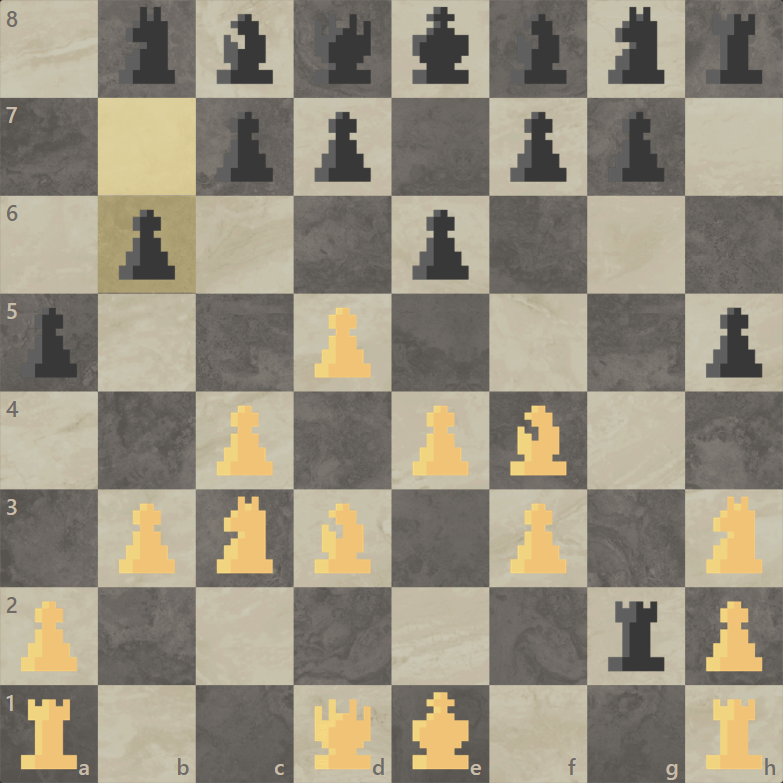B: (508, 399, 568, 481), (311, 498, 373, 577)
K: (408, 689, 474, 775)
N: (212, 492, 275, 577), (702, 494, 765, 578)
P: (702, 599, 767, 674), (505, 502, 570, 577), (113, 502, 178, 577), (14, 600, 79, 675), (213, 402, 275, 480), (409, 402, 471, 480), (311, 304, 373, 382)
Q: (311, 696, 374, 772)
R: (15, 696, 80, 773), (706, 696, 766, 774)
b: (507, 10, 573, 90), (215, 8, 277, 87)
k: (408, 5, 472, 88)
n: (115, 4, 180, 87), (606, 4, 666, 87)
p: (18, 305, 82, 384), (113, 207, 177, 286), (408, 203, 472, 282), (702, 302, 766, 381), (506, 107, 570, 186), (603, 108, 667, 187), (309, 106, 373, 185), (211, 106, 275, 185)
q: (309, 11, 378, 88)
r: (599, 596, 668, 677), (702, 8, 766, 87)
